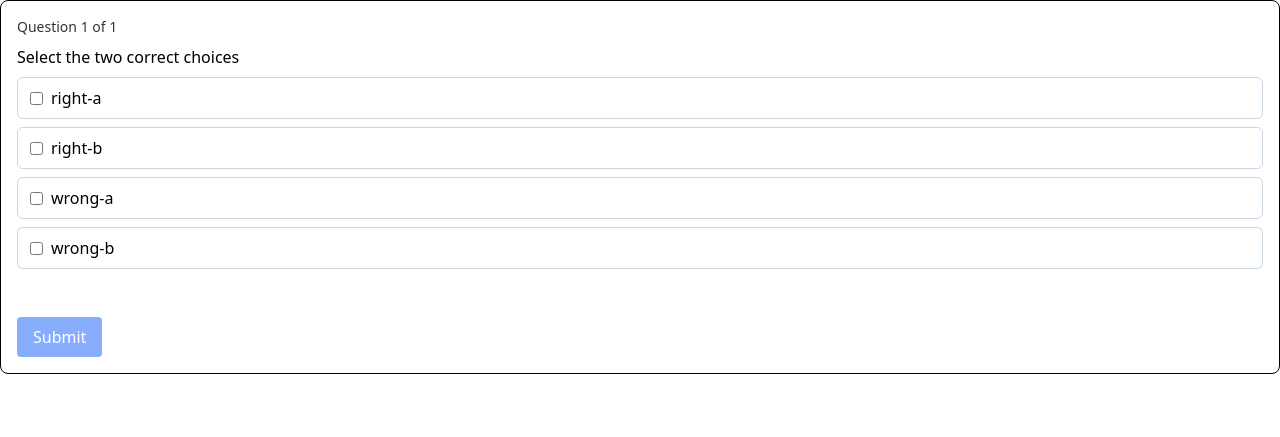
Test case: multi partial credit (§13 roadmap D-023) › still shows "Correct!" and full credit for an exact-match multi selection (no regression)
What coordinates should you click on to do the following:
click the checkbox labelled "right-a"
I would click on:
 (36, 98)
Its box is x1=30 y1=92 x2=43 y2=104.
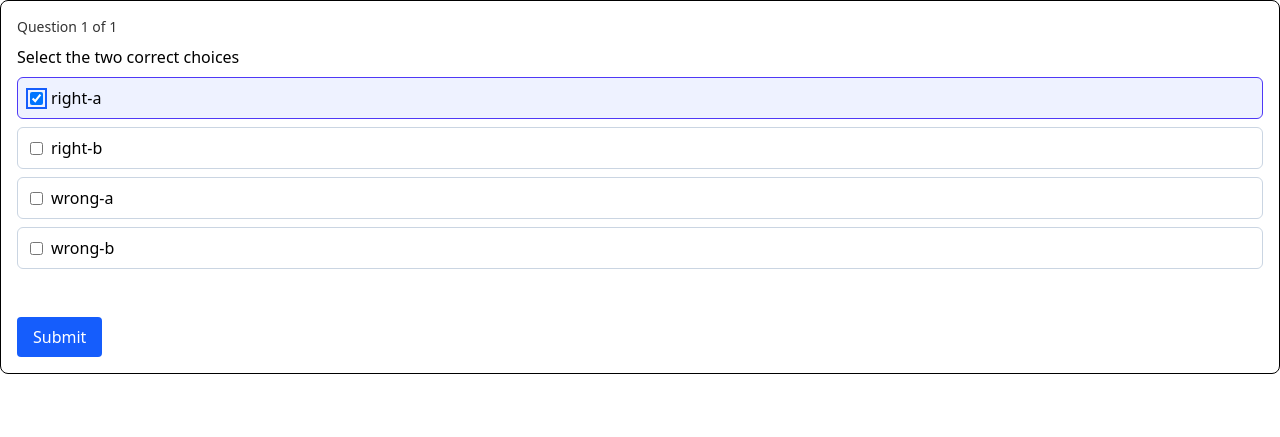
What coordinates should you click on to do the following:
click the checkbox labelled "right-b"
I would click on:
 (36, 148)
Its box is x1=30 y1=142 x2=43 y2=154.
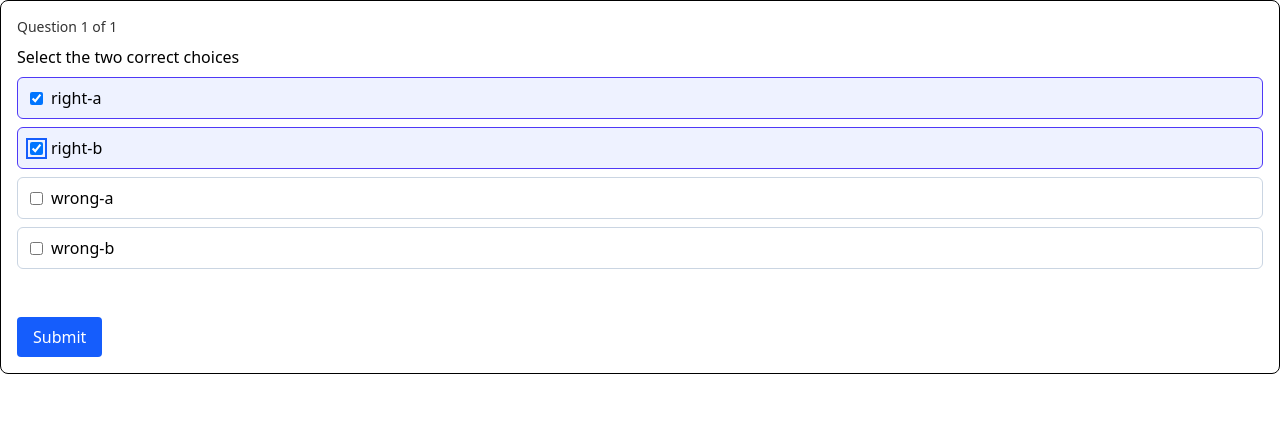
What coordinates should you click on to do the following:
click the button "Submit"
I would click on:
 (60, 337)
Its box is x1=17 y1=317 x2=102 y2=357.
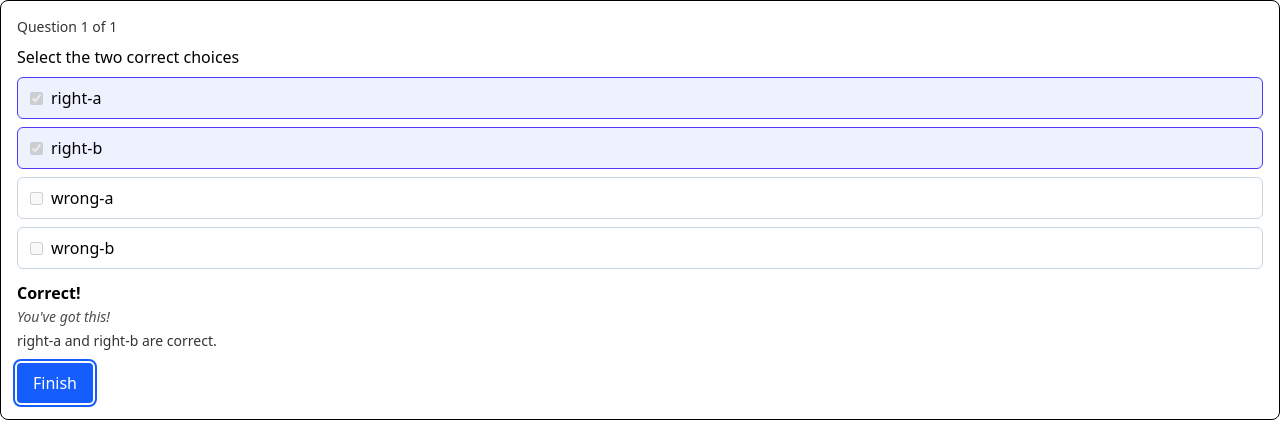
Expected: the text "Correct!" is shown, x1=17 y1=282 x2=80 y2=304
What coordinates should you click on to do the following:
click the button "Finish"
I would click on:
 (55, 383)
Its box is x1=17 y1=363 x2=93 y2=403.
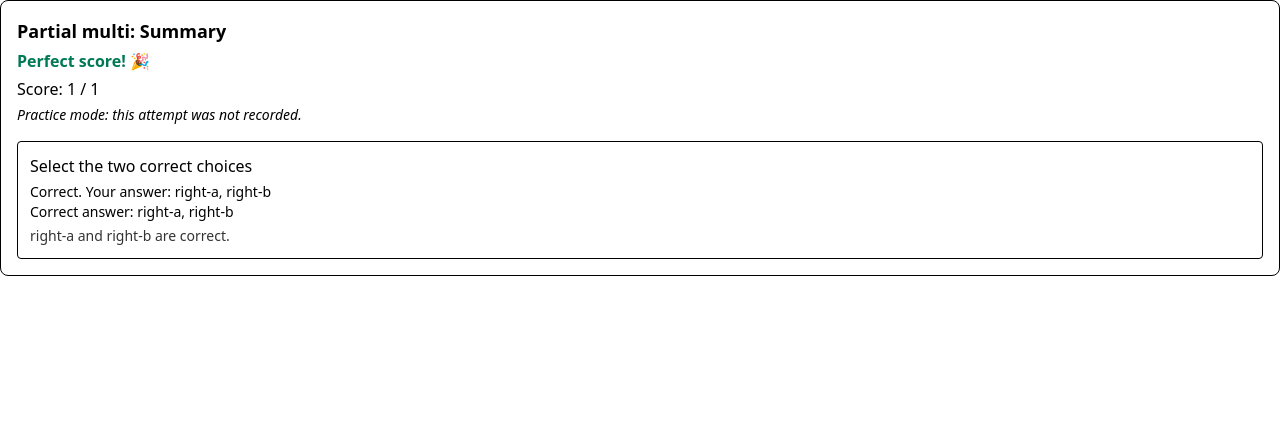
Expected: the text "Score: 1 / 1" is shown, x1=17 y1=78 x2=100 y2=100
